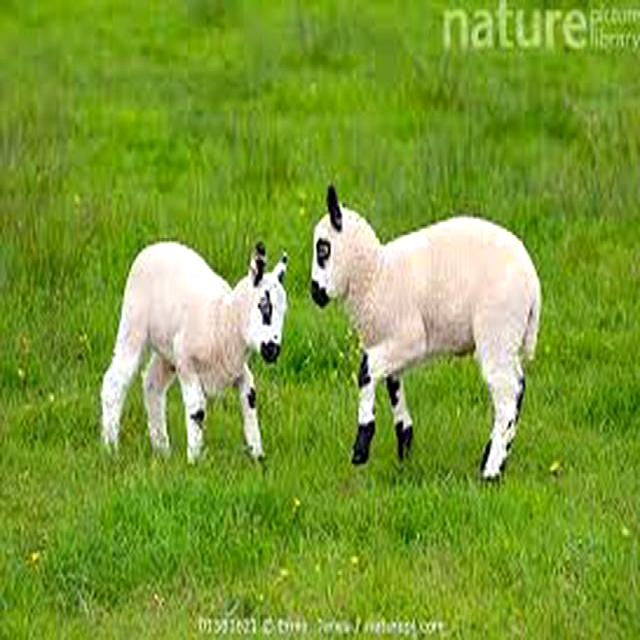sheep: (311, 181, 539, 480), (104, 242, 288, 464)
